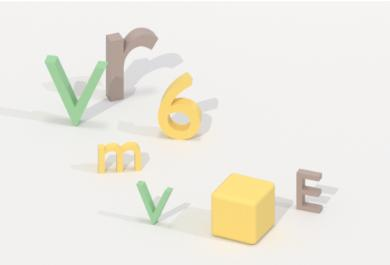0-KhoiVuong: (205, 168, 283, 249)
6: (151, 70, 207, 146)
E: (292, 164, 327, 217)
V: (42, 51, 111, 132), (133, 176, 176, 231)
m: (93, 137, 146, 177)
r: (101, 23, 160, 106)
